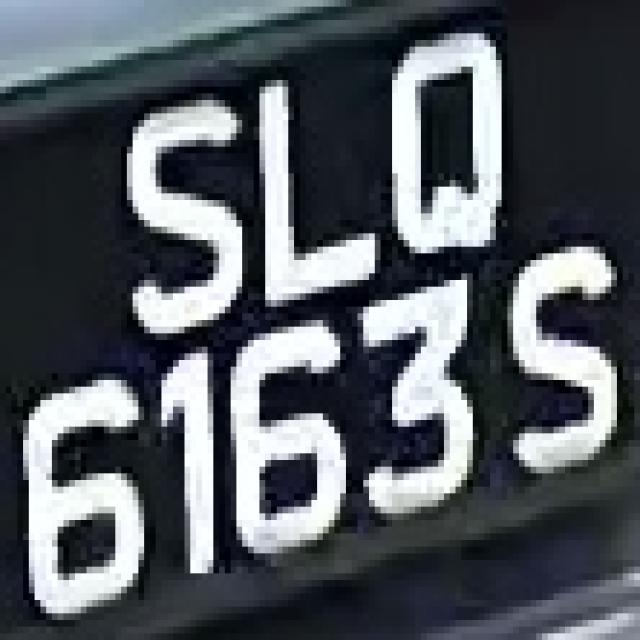1: (144, 340, 237, 580)
3: (352, 294, 507, 534)
6: (214, 300, 364, 573), (0, 4, 1, 7)
L: (242, 60, 381, 313)
Q: (375, 40, 536, 267)
S: (502, 240, 634, 493), (115, 94, 248, 334)
